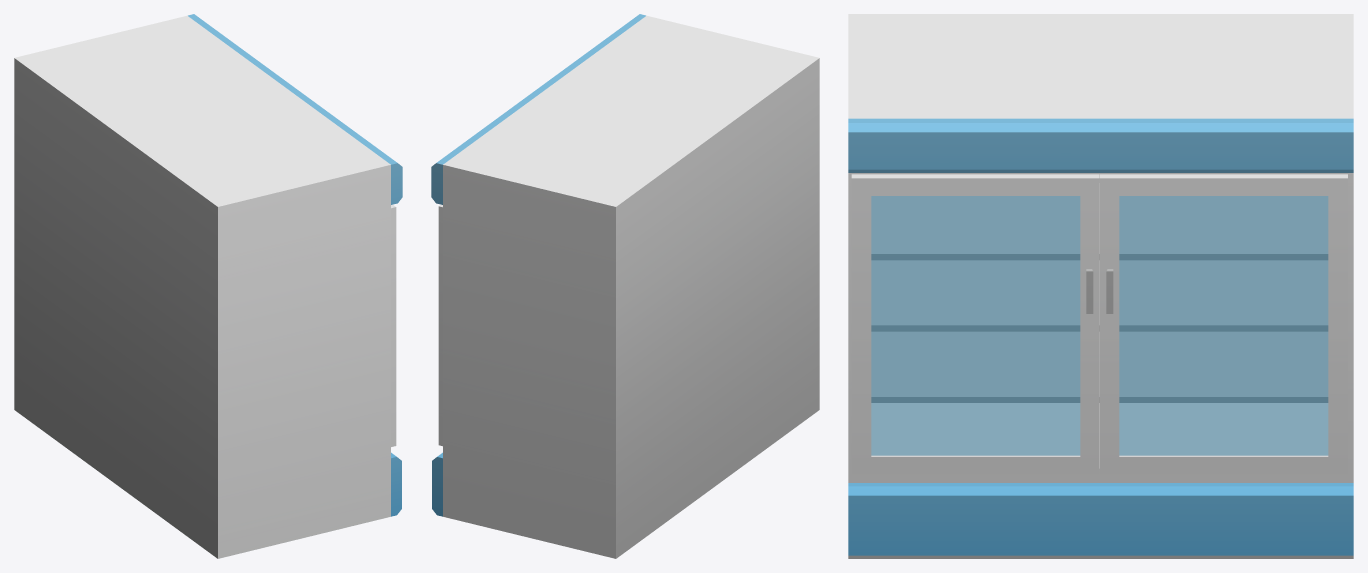
Rendered from fridge_double_white.fbx.
3 renders of one model, left to right at view 1: azimuth 30°, elevation 25°; view 2: azimuth 150°, elevation 25°; view 3: azimuth 270°, elevation 25°, orthographic. The views are drawn at different scales.
Parts seen in each view (by area): view 1: fridge_double_white, fridge_door_double_white02; view 2: fridge_double_white, fridge_door_double_white01; view 3: fridge_double_white, fridge_door_double_white02, fridge_door_double_white01.
Part boxes in pixels (<box>): fridge_double_white: <box>14,14,402,558</box>; fridge_door_double_white02: <box>391,204,396,446</box>; fridge_double_white: <box>431,14,819,558</box>; fridge_door_double_white01: <box>438,204,442,446</box>; fridge_double_white: <box>848,14,1353,558</box>; fridge_door_double_white02: <box>851,174,1099,474</box>; fridge_door_double_white01: <box>1100,174,1347,474</box>.
Bounding box in the file's own units: 680 × 1238 × 1298.
